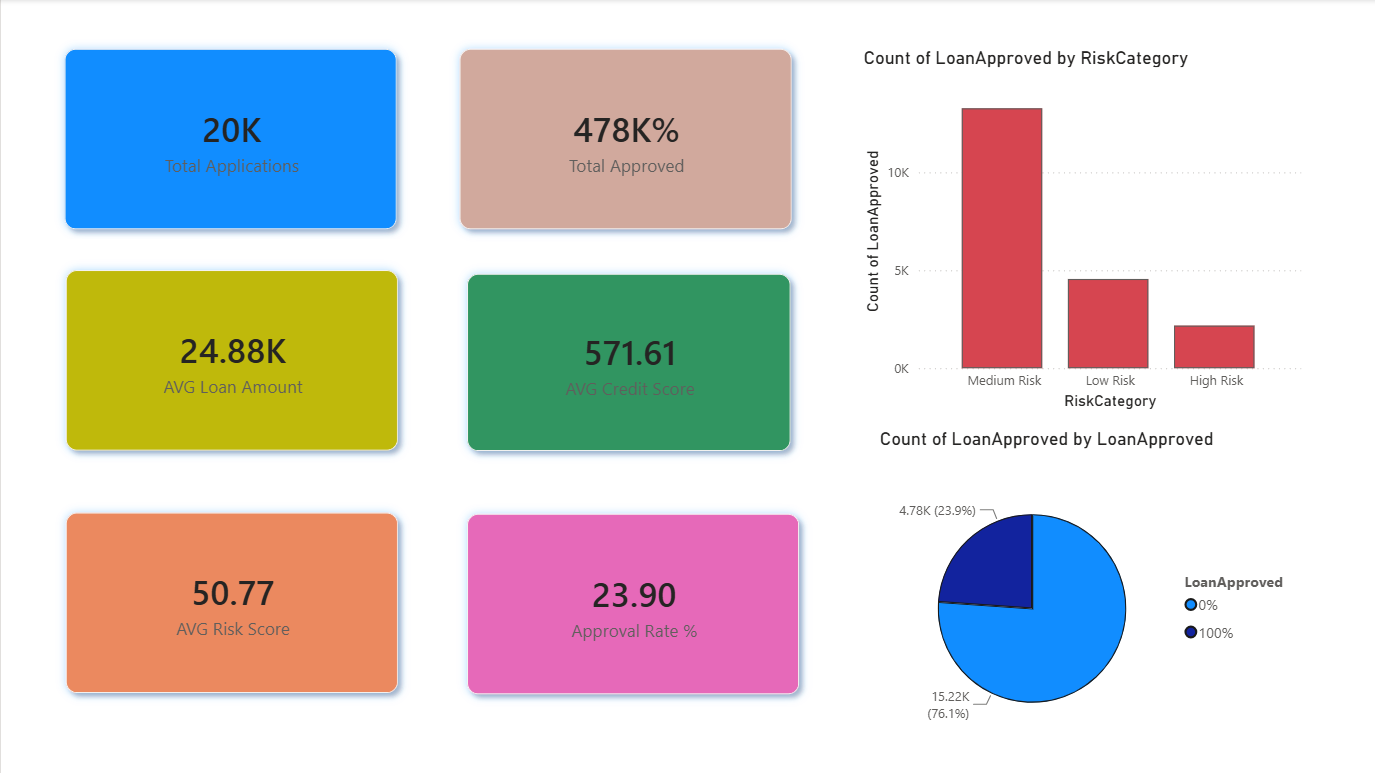

This screenshot's page, from the dashboard's own definition file:
{"tool":"powerbi","page":{"name":"Executive Overview","canvas":[1280,720],"ordinal":0},"visuals":[{"type":"cardVisual","fields":{"Data":["CountNonNull(loan_data_with_risk.LoanApproved)"]},"box":[30.2,17.8,367.8,226.4],"z":0},{"type":"cardVisual","fields":{"Data":["Sum(loan_data_with_risk.LoanApproved)"]},"box":[397.9,17.8,367,226],"z":1000},{"type":"cardVisual","fields":{"Data":["loan_data_with_risk.Approval Rate %"]},"box":[404.8,450.1,367,226],"z":2000},{"type":"cardVisual","fields":{"Data":["Avg(loan_data_with_risk.LoanAmount)"]},"box":[31.6,223.7,367,226],"z":3000},{"type":"cardVisual","fields":{"Data":["Avg(loan_data_with_risk.CreditScore)"]},"box":[404.8,226.4,359.5,223.7],"z":4000},{"type":"cardVisual","fields":{"Data":["Avg(loan_data_with_risk.RiskScore)"]},"box":[31.6,448.7,367,226],"z":5000},{"type":"clusteredColumnChart","fields":{"Category":["loan_data_with_risk.RiskCategory"],"Y":["CountNonNull(loan_data_with_risk.LoanApproved)"]},"box":[797.3,43.9,417.2,343.1],"z":6000},{"type":"pieChart","fields":{"Category":["loan_data_with_risk.LoanApproved"],"Y":["CountNonNull(loan_data_with_risk.LoanApproved)"]},"box":[812.4,399.3,402.1,306],"z":7000}]}

Visuals, with their boxes in screenshot pixels (x1, y1, x2, y2), scaled from the page's 1280x720 canvas onto the 1375x773 screenshot:
cardVisual - CountNonNull(loan_data_with_risk.LoanApproved): detection(32, 19, 428, 262)
cardVisual - Sum(loan_data_with_risk.LoanApproved): detection(427, 19, 822, 262)
cardVisual - loan_data_with_risk.Approval Rate %: detection(435, 483, 829, 726)
cardVisual - Avg(loan_data_with_risk.LoanAmount): detection(34, 240, 428, 483)
cardVisual - Avg(loan_data_with_risk.CreditScore): detection(435, 243, 821, 483)
cardVisual - Avg(loan_data_with_risk.RiskScore): detection(34, 482, 428, 724)
clusteredColumnChart - loan_data_with_risk.RiskCategory x CountNonNull(loan_data_with_risk.LoanApproved): detection(856, 47, 1305, 415)
pieChart - loan_data_with_risk.LoanApproved x CountNonNull(loan_data_with_risk.LoanApproved): detection(873, 429, 1305, 757)
